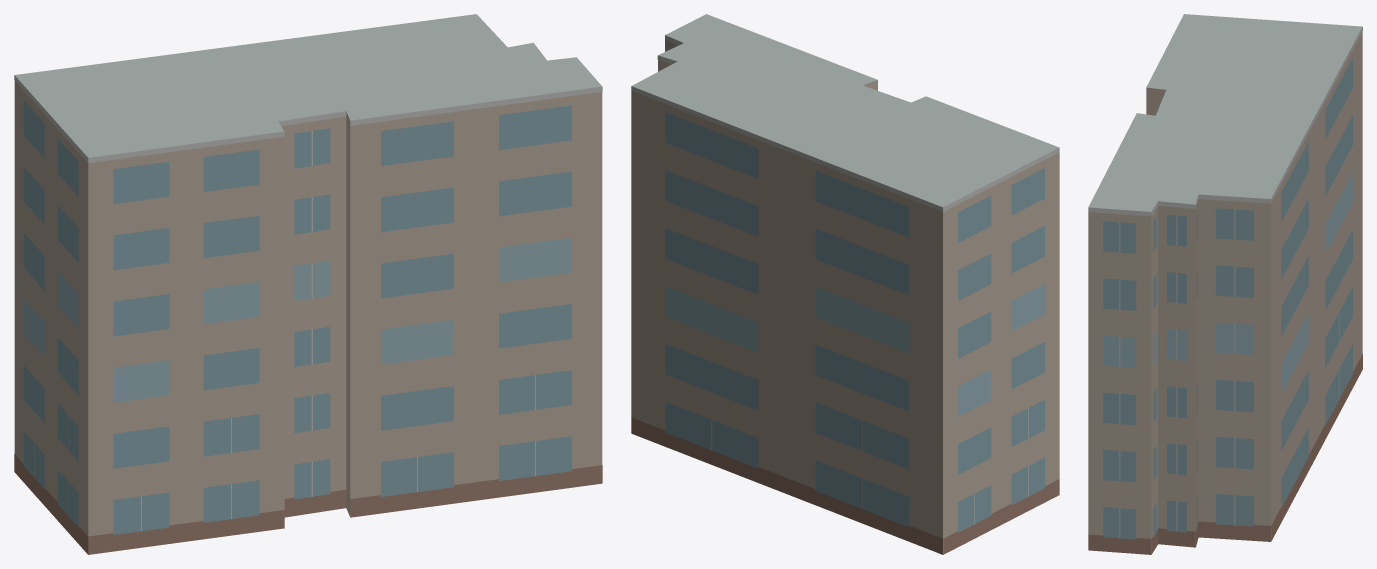
The model's file is survey-upis-32598956.glb.
3 views of the same model, side by side, from view 1: azimuth 30°, elevation 25°; view 2: azimuth 150°, elevation 25°; view 3: azimuth 270°, elevation 25° (orthographic). The views are drawn at different scales.
Visible parts, largest first — view 1: survey-upis-32598956.tmp; view 2: survey-upis-32598956.tmp; view 3: survey-upis-32598956.tmp.
Boxes of the visible parts, left/top/right/bottom form: survey-upis-32598956.tmp: left=14, top=14, right=602, bottom=554; survey-upis-32598956.tmp: left=631, top=14, right=1059, bottom=554; survey-upis-32598956.tmp: left=1088, top=14, right=1362, bottom=554.
Size of the model in its own units: 22.67 by 18.3 by 13.29.
